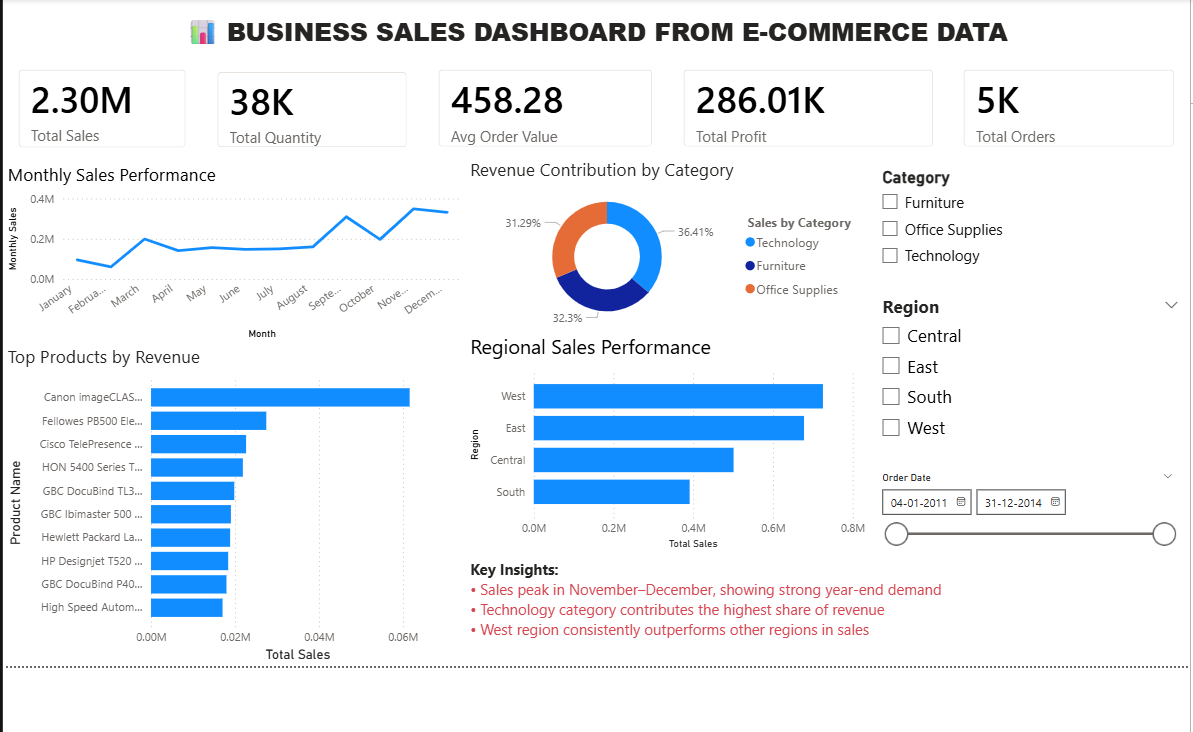

The page's visual inventory and layout, read from the dashboard file:
{"tool":"powerbi","page":{"name":"Page 1","canvas":[1280,720],"ordinal":0},"visuals":[{"type":"cardVisual","fields":{"Data":["Sales.Total Sales"]},"box":[0,0,249.7,109.8],"z":0},{"type":"cardVisual","fields":{"Data":["People.Avg Order Value"]},"box":[440.5,0,269,118],"z":1000},{"type":"cardVisual","fields":{"Data":["People.Total Orders"]},"box":[964.7,0,315.6,109.8],"z":2000},{"type":"cardVisual","fields":{"Data":["People.Total Profit"]},"box":[682,0,311.5,109.8],"z":3000},{"type":"cardVisual","fields":{"Data":["People.Total Quantity"]},"box":[214.1,0,255.2,109.8],"z":4000},{"type":"lineChart","title":"Monthly Sales Performance","fields":{"Category":["Orders.Month"],"Y":["Orders.Total Sales"]},"box":[13.7,109.8,484.4,249.7],"z":5000},{"type":"donutChart","title":"Revenue Contribution by Category","fields":{"Category":["Orders.Category"],"Y":["Orders.Total Sales"]},"box":[498.1,118,425.4,233.3],"z":6000},{"type":"clusteredBarChart","title":"Regional Sales Performance","fields":{"Y":["Orders.Total Sales"],"Category":["Orders.Region"]},"box":[498.1,359.5,437.7,244.3],"z":7000},{"type":"clusteredBarChart","title":"Top Products by Revenue","fields":{"Category":["Orders.Product Name"],"Y":["Orders.Total Sales"]},"box":[0,373.2,498.1,347.2],"z":8000},{"type":"slicer","fields":{"Values":["Orders.Category"]},"box":[964.7,109.8,315.6,190.7],"z":9000},{"type":"slicer","fields":{"Values":["Orders.Region"]},"box":[964.7,300.5,315.6,189.4],"z":10000},{"type":"slicer","fields":{"Values":["Orders.Order Date"]},"box":[935.9,489.9,344.4,113.9],"z":11000},{"type":"textbox","box":[498.1,603.8,572.2,116.6],"z":13000}]}

Visuals, with their boxes on the page's 1280x720 design canvas (x1, y1, x2, y2). These are canvas units, not pixel positions in the 1193x732 screenshot, which may show the page scaled, cropped or inside an application window:
cardVisual - Sales.Total Sales: <bbox>0, 0, 250, 110</bbox>
cardVisual - People.Avg Order Value: <bbox>440, 0, 710, 118</bbox>
cardVisual - People.Total Orders: <bbox>965, 0, 1280, 110</bbox>
cardVisual - People.Total Profit: <bbox>682, 0, 994, 110</bbox>
cardVisual - People.Total Quantity: <bbox>214, 0, 469, 110</bbox>
"Monthly Sales Performance" lineChart: <bbox>14, 110, 498, 360</bbox>
"Revenue Contribution by Category" donutChart: <bbox>498, 118, 924, 351</bbox>
"Regional Sales Performance" clusteredBarChart: <bbox>498, 360, 936, 604</bbox>
"Top Products by Revenue" clusteredBarChart: <bbox>0, 373, 498, 720</bbox>
slicer - Orders.Category: <bbox>965, 110, 1280, 300</bbox>
slicer - Orders.Region: <bbox>965, 300, 1280, 490</bbox>
slicer - Orders.Order Date: <bbox>936, 490, 1280, 604</bbox>
textbox: <bbox>498, 604, 1070, 720</bbox>
